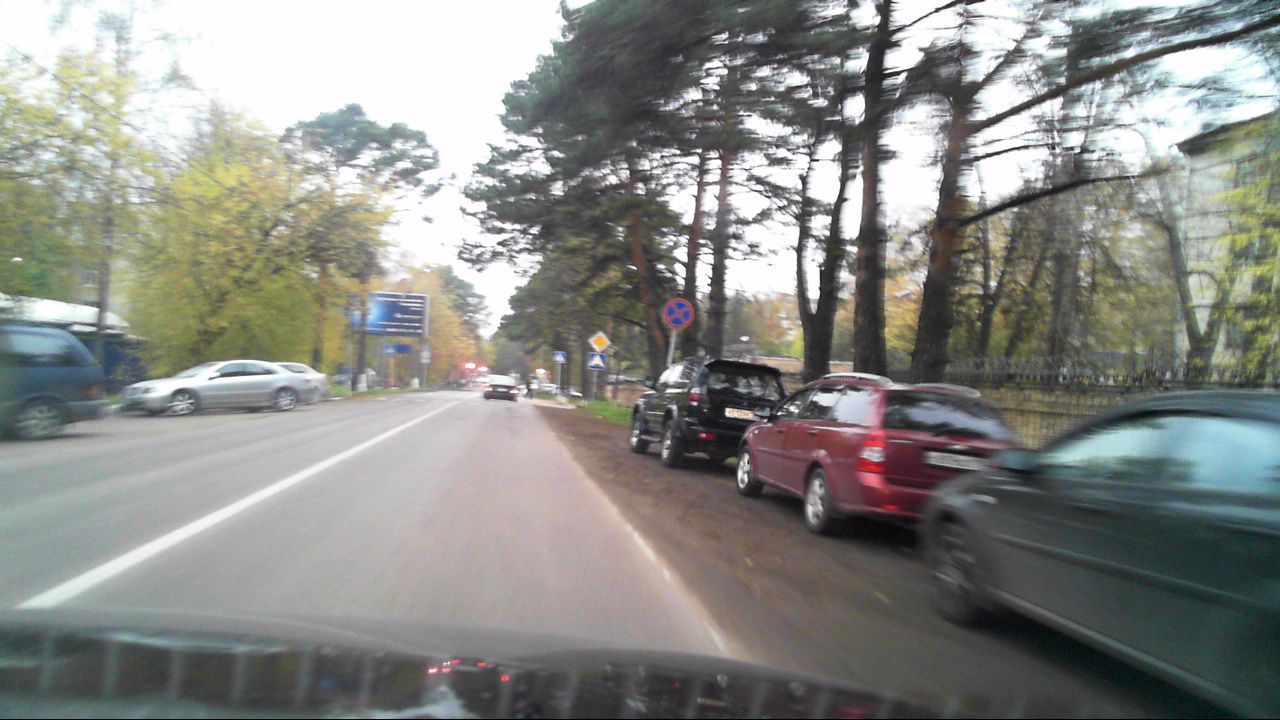No Parking: (660, 297, 694, 330)
